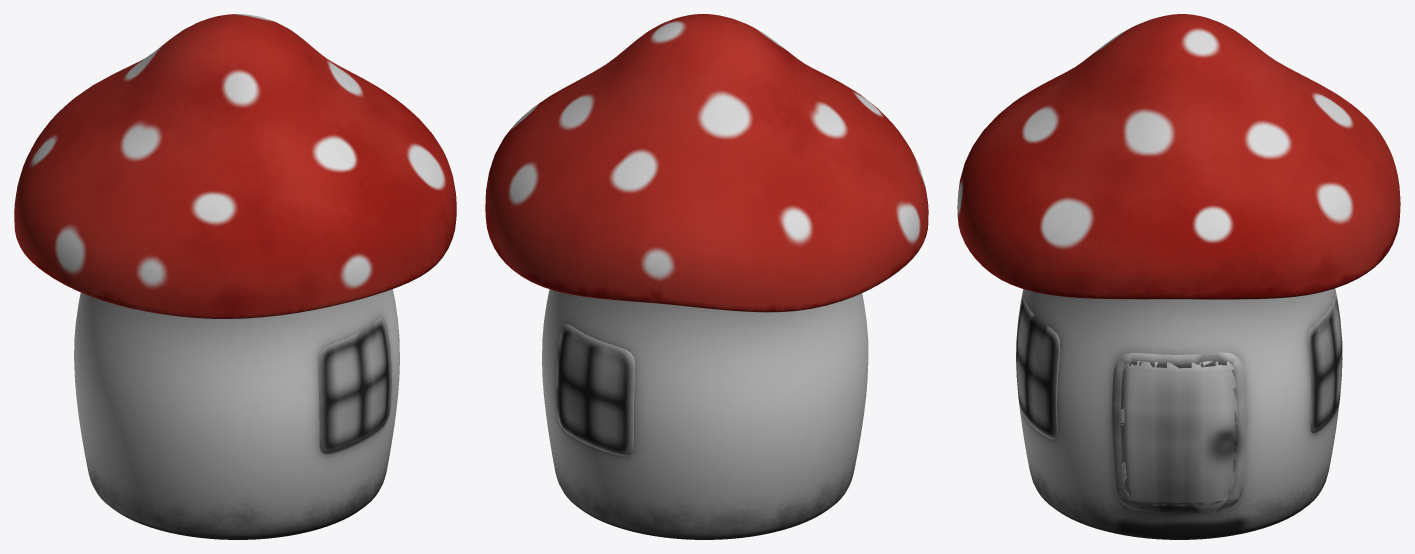
The model's file is shroom_inner.obj.
3 views of the same model, side by side, from view 1: azimuth 30°, elevation 25°; view 2: azimuth 150°, elevation 25°; view 3: azimuth 270°, elevation 25° (orthographic).
Parts seen in each view (by area): view 1: inner_a_shroom, inner_window1; view 2: inner_a_shroom, inner_window2; view 3: inner_a_shroom, inner_door_planks, inner_door_rim, inner_window1, inner_window2.
Part boxes in pixels (left/top/right/bottom): inner_a_shroom: left=14, top=14, right=456, bottom=539; inner_window1: left=318, top=318, right=391, bottom=454; inner_a_shroom: left=485, top=14, right=928, bottom=539; inner_window2: left=556, top=324, right=635, bottom=456; inner_a_shroom: left=957, top=14, right=1400, bottom=539; inner_door_planks: left=1120, top=361, right=1237, bottom=506; inner_door_rim: left=1111, top=352, right=1247, bottom=513; inner_window1: left=1016, top=297, right=1060, bottom=439; inner_window2: left=1307, top=293, right=1342, bottom=433.
Size of the model in its own units: 7.86 by 9.05 by 7.86.
2 materials, 2 textured.
